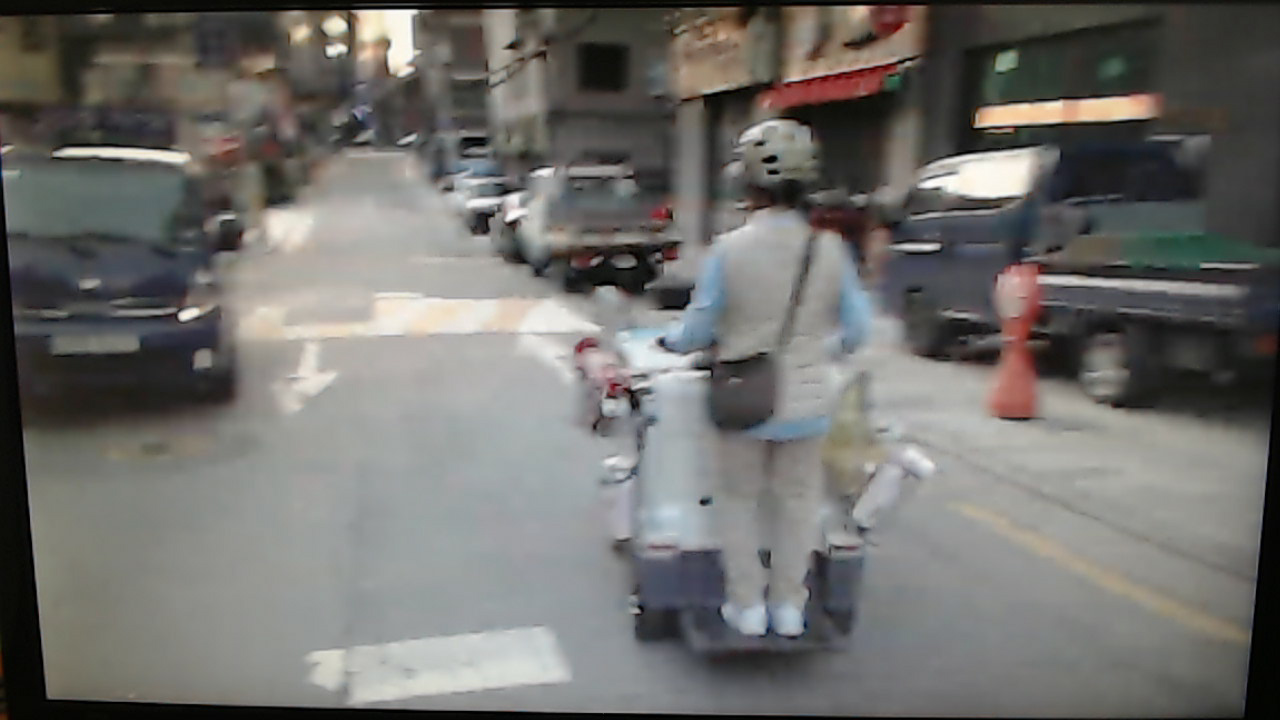Yakurut: (641, 78, 892, 649)
